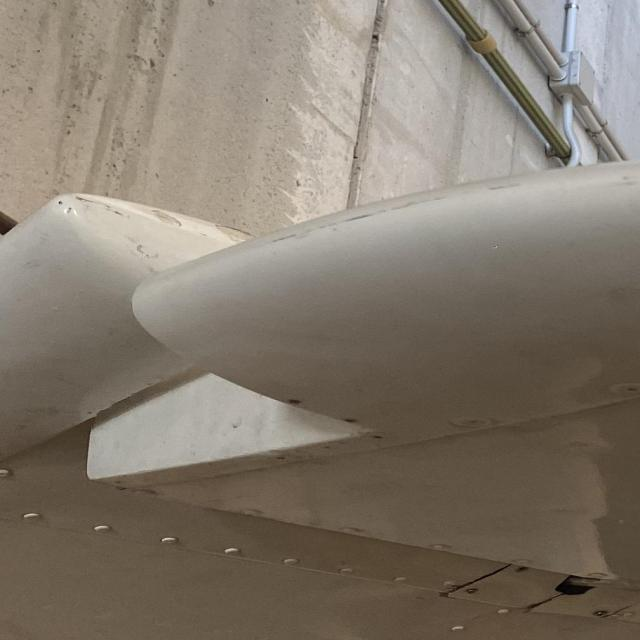Paint-off: (62, 195, 125, 211), (147, 207, 186, 230), (216, 226, 259, 243), (133, 241, 149, 261)
